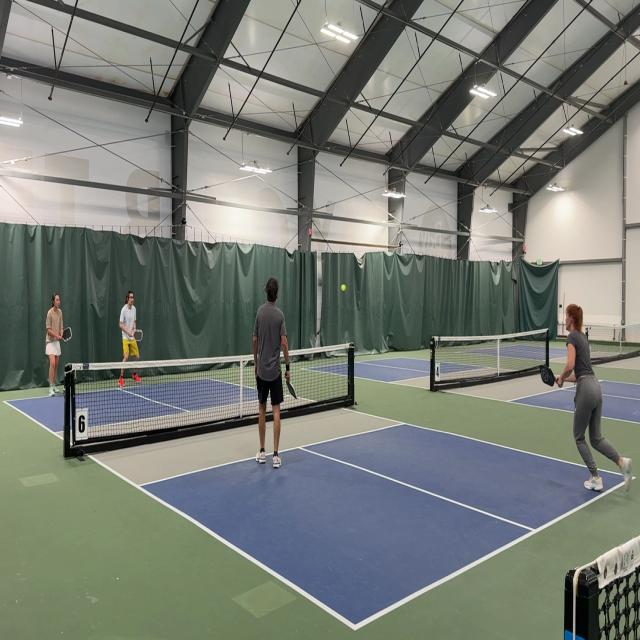ball: (340, 284, 347, 292)
